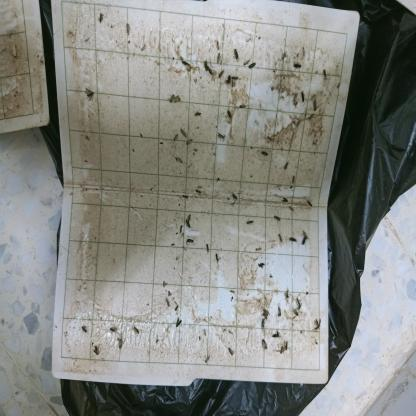prays_oleae: (247, 56, 259, 76), (218, 130, 228, 152), (175, 150, 186, 170), (232, 70, 240, 96), (260, 302, 270, 322), (260, 144, 270, 164), (298, 85, 308, 105), (85, 86, 96, 104), (224, 108, 235, 126), (272, 208, 284, 224), (272, 302, 284, 318), (170, 131, 182, 147), (214, 51, 224, 70), (213, 36, 223, 55), (214, 245, 222, 268), (175, 316, 185, 334), (292, 60, 302, 78), (288, 232, 300, 247), (80, 322, 90, 340), (116, 336, 127, 352), (279, 189, 289, 206), (308, 191, 316, 212), (292, 307, 301, 325), (286, 200, 296, 216), (276, 228, 284, 247), (322, 57, 327, 87), (92, 341, 100, 359), (284, 336, 292, 354), (310, 95, 318, 113), (194, 107, 203, 123), (314, 320, 324, 334), (281, 158, 291, 172), (216, 66, 226, 80), (184, 136, 194, 150), (300, 226, 306, 249), (245, 213, 254, 228), (204, 237, 210, 259), (109, 324, 120, 336), (180, 124, 188, 140), (186, 212, 192, 233), (233, 48, 240, 66), (239, 100, 249, 112), (258, 256, 265, 272), (262, 339, 269, 354), (187, 235, 195, 248), (296, 297, 304, 310), (290, 170, 298, 182), (276, 346, 284, 358), (203, 58, 208, 77), (228, 344, 235, 357), (271, 329, 278, 340)
